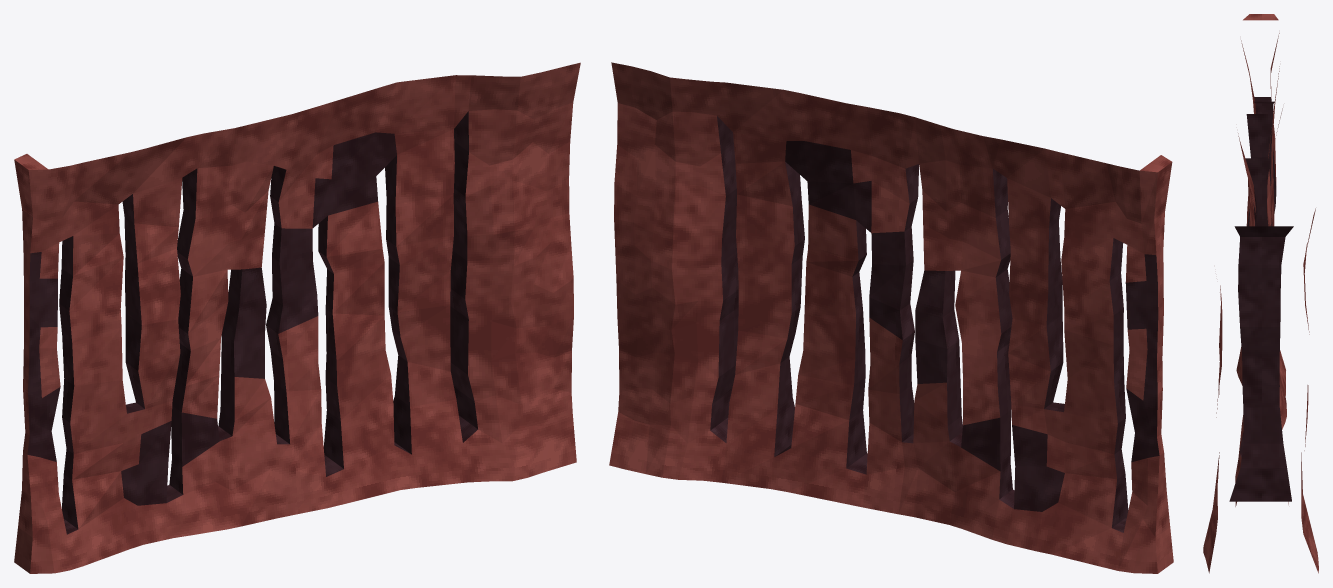
File: rock_bars.glb
3 views of the same model, side by side, from view 1: azimuth 30°, elevation 25°; view 2: azimuth 150°, elevation 25°; view 3: azimuth 270°, elevation 25° (orthographic). The views are drawn at different scales.
Parts seen in each view (by area): view 1: RockBars; view 2: RockBars; view 3: RockBars.
Boxes of the visible parts, box(x1,y1,x2,y2) form: RockBars: box(14, 62, 580, 573); RockBars: box(609, 62, 1173, 573); RockBars: box(1203, 14, 1318, 573).
Size of the model in its own units: 11.92 by 8.75 by 2.71.
Materials: 2 (2 with a texture image).
